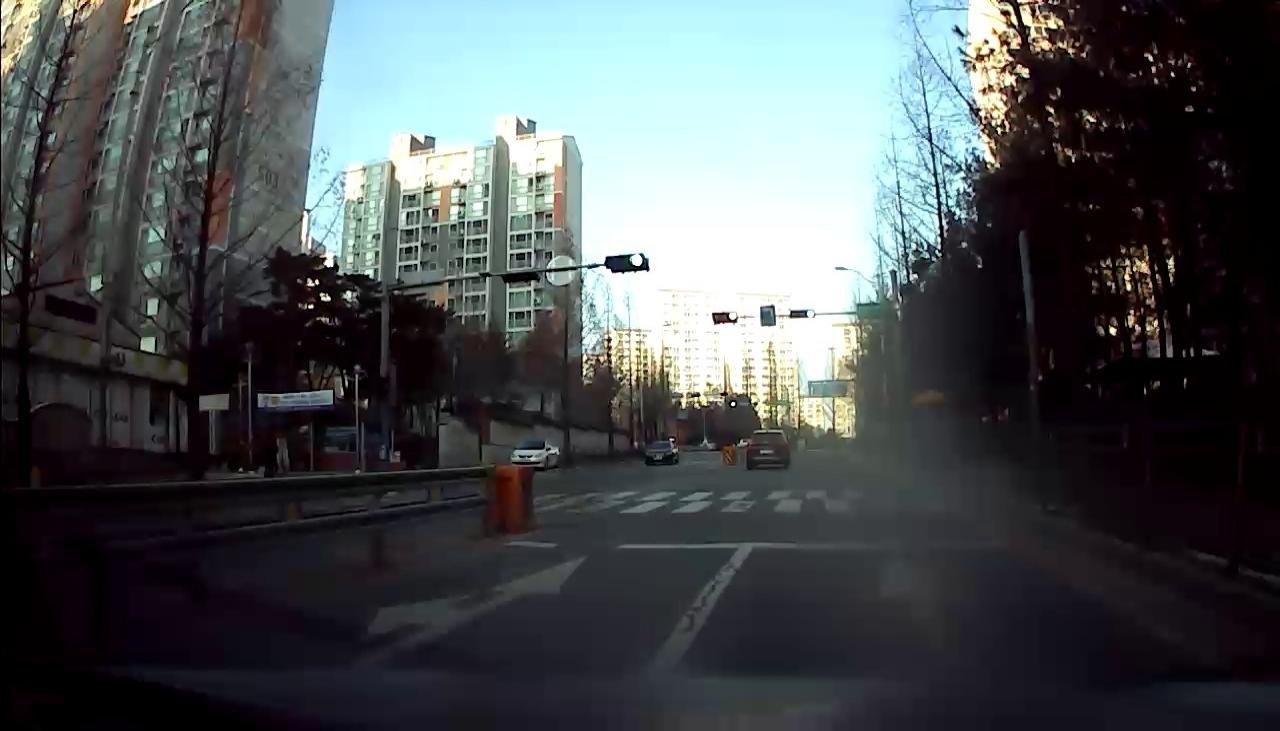Green Light: (626, 252, 647, 271), (726, 310, 739, 324), (804, 306, 816, 320)
